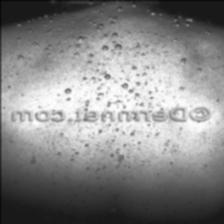Unclassified: (38, 14, 194, 106), (10, 126, 184, 183), (8, 17, 64, 50), (87, 0, 150, 26)
